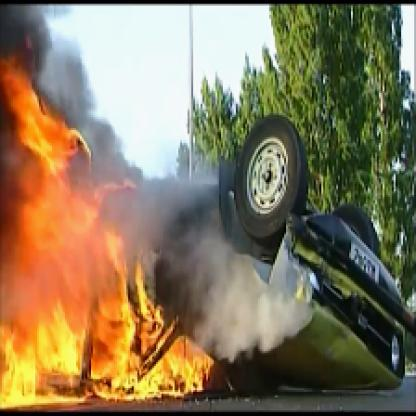Fire: (2, 52, 226, 414)
